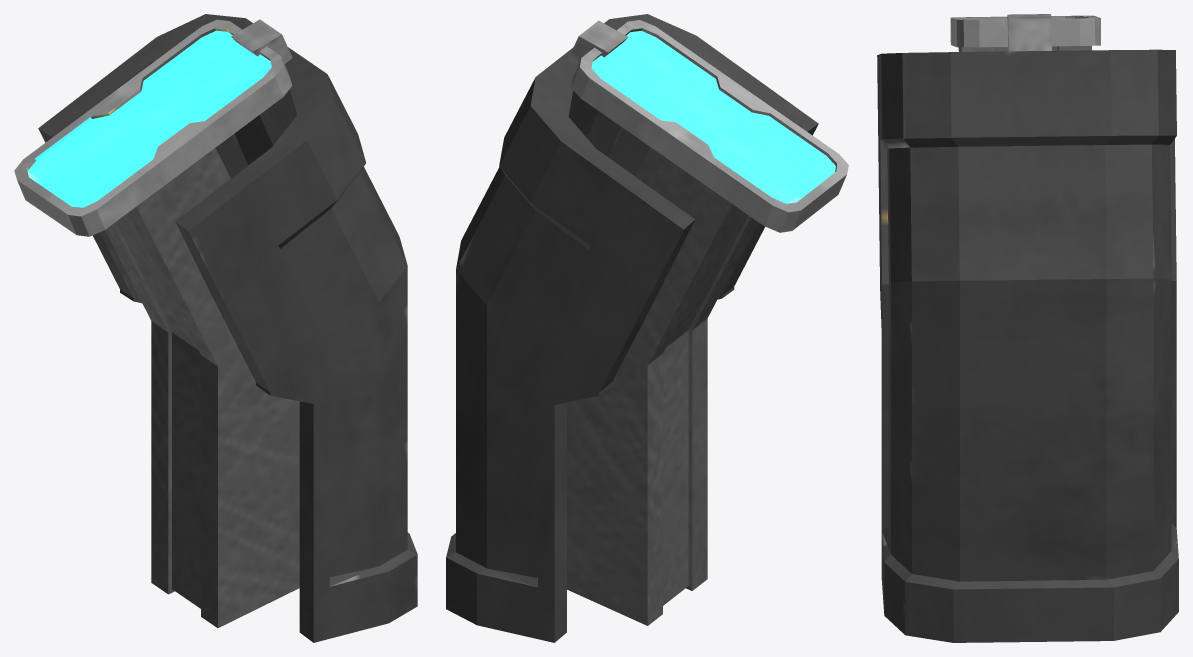
File: BlueCardReader.fbx
The picture shows the model from 3 angles, left to right: view 1: azimuth 30°, elevation 25°; view 2: azimuth 150°, elevation 25°; view 3: azimuth 270°, elevation 25°; orthographic projection. The views are drawn at different scales.
Visible parts, largest first — view 1: BlueCardReader; view 2: BlueCardReader; view 3: BlueCardReader.
Boxes of the visible parts, left/top/right/bottom form: BlueCardReader: left=14, top=14, right=417, bottom=642; BlueCardReader: left=446, top=14, right=848, bottom=642; BlueCardReader: left=877, top=14, right=1178, bottom=642.
Size of the model in its own units: 153 by 242 by 116.
